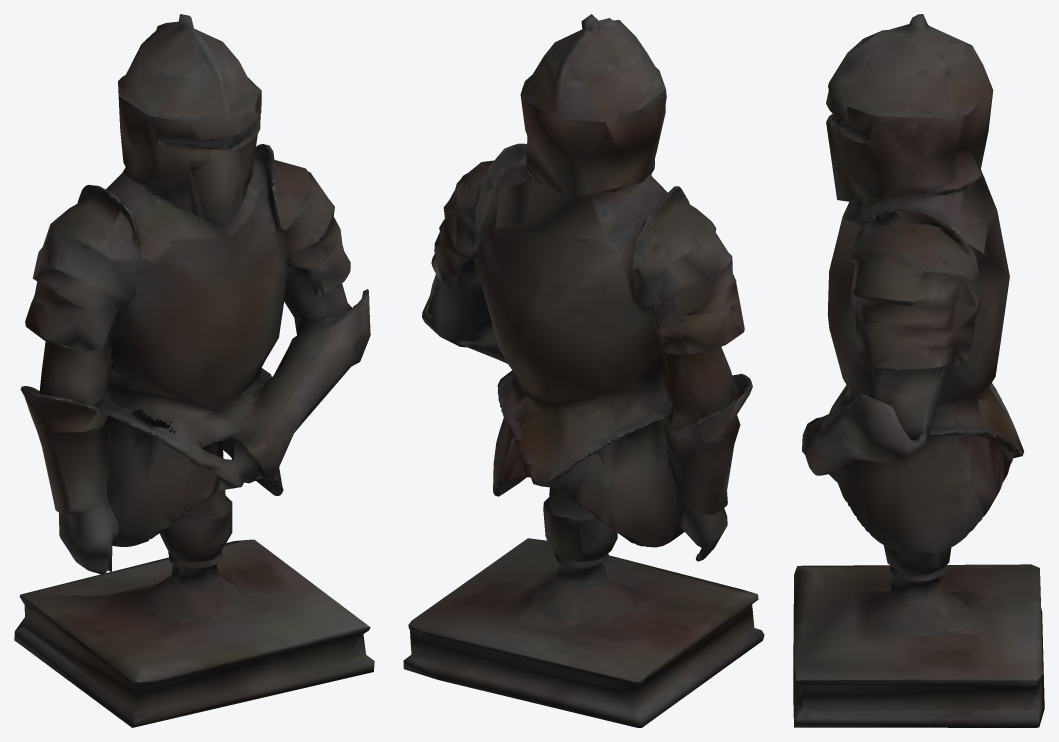
The model's file is worn-iron-suit-of-armour-v001.glb.
3 views of the same model, side by side, from view 1: azimuth 30°, elevation 25°; view 2: azimuth 150°, elevation 25°; view 3: azimuth 270°, elevation 25° (orthographic).
Parts seen in each view (by area): view 1: worn-iron-suit-of-armour; view 2: worn-iron-suit-of-armour; view 3: worn-iron-suit-of-armour.
Part boxes in pixels (bbox=[...]): worn-iron-suit-of-armour: bbox=[14, 14, 374, 727]; worn-iron-suit-of-armour: bbox=[403, 14, 764, 727]; worn-iron-suit-of-armour: bbox=[793, 14, 1044, 727].
Size of the model in its own units: 1.07 by 1.98 by 0.6946.
Materials: 1 (1 with a texture image).
